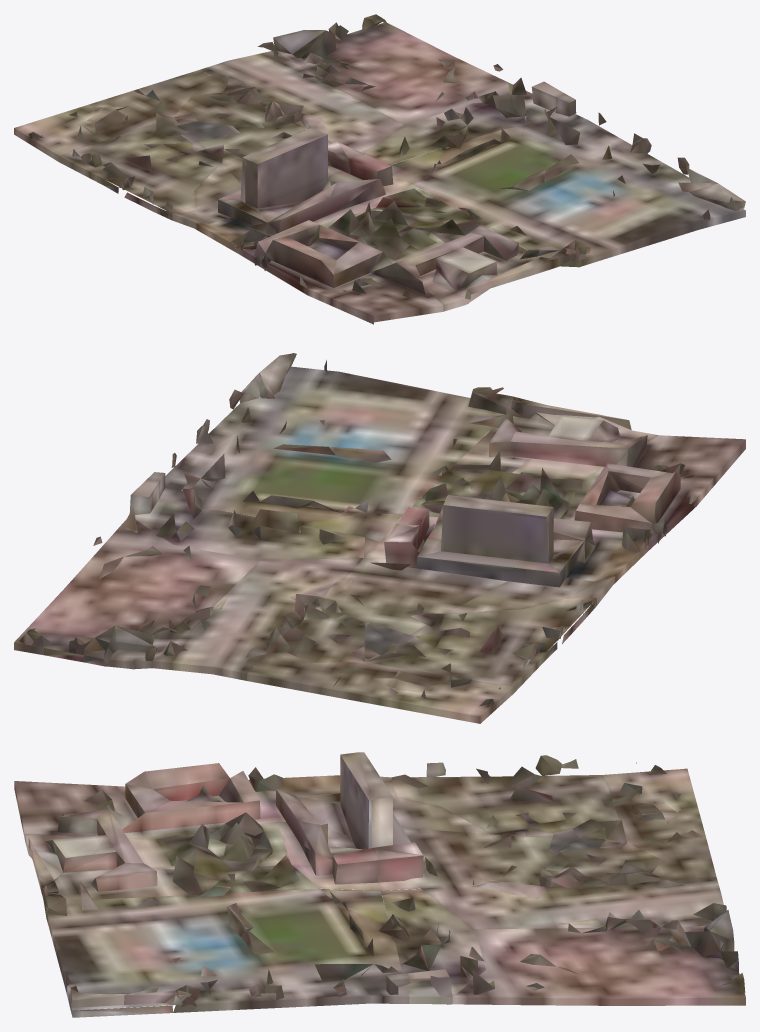
The picture shows the model from 3 angles, top to bottom: view 1: azimuth 30°, elevation 25°; view 2: azimuth 150°, elevation 25°; view 3: azimuth 270°, elevation 25°; orthographic projection. The views are drawn at different scales.
Visible parts, largest first — view 1: Mesh_0; view 2: Mesh_0; view 3: Mesh_0.
Part boxes in pixels (x1,y1,x2,y2): Mesh_0: (14,14,745,324); Mesh_0: (14,353,745,723); Mesh_0: (14,752,745,1017).
Size of the model in its own units: 532 by 81.48 by 659.
Materials: 1 (1 with a texture image).
